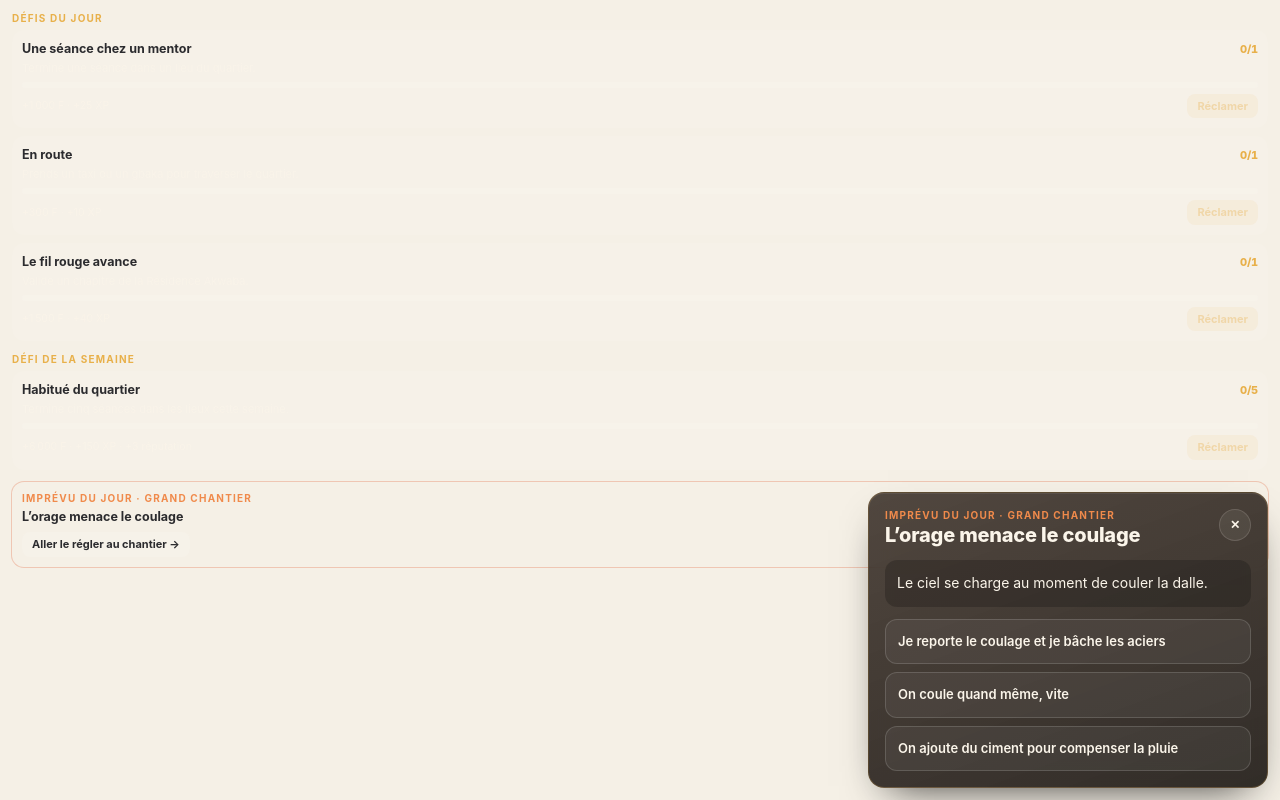
Test case: les défis dans le jeu › affiche les défis dans le téléphone et règle l’imprévu au chantier, avec ses conséquences
Expected: the text "Défis du jour" is shown, left=12, top=12, right=103, bottom=24
Expected: the button "Réclamer" in the row of "25" is disabled, left=1187, top=94, right=1258, bottom=118
Click the button "Je reporte le coulage et je bâche les aciers" at (1068, 641), box left=885, top=618, right=1251, bottom=664
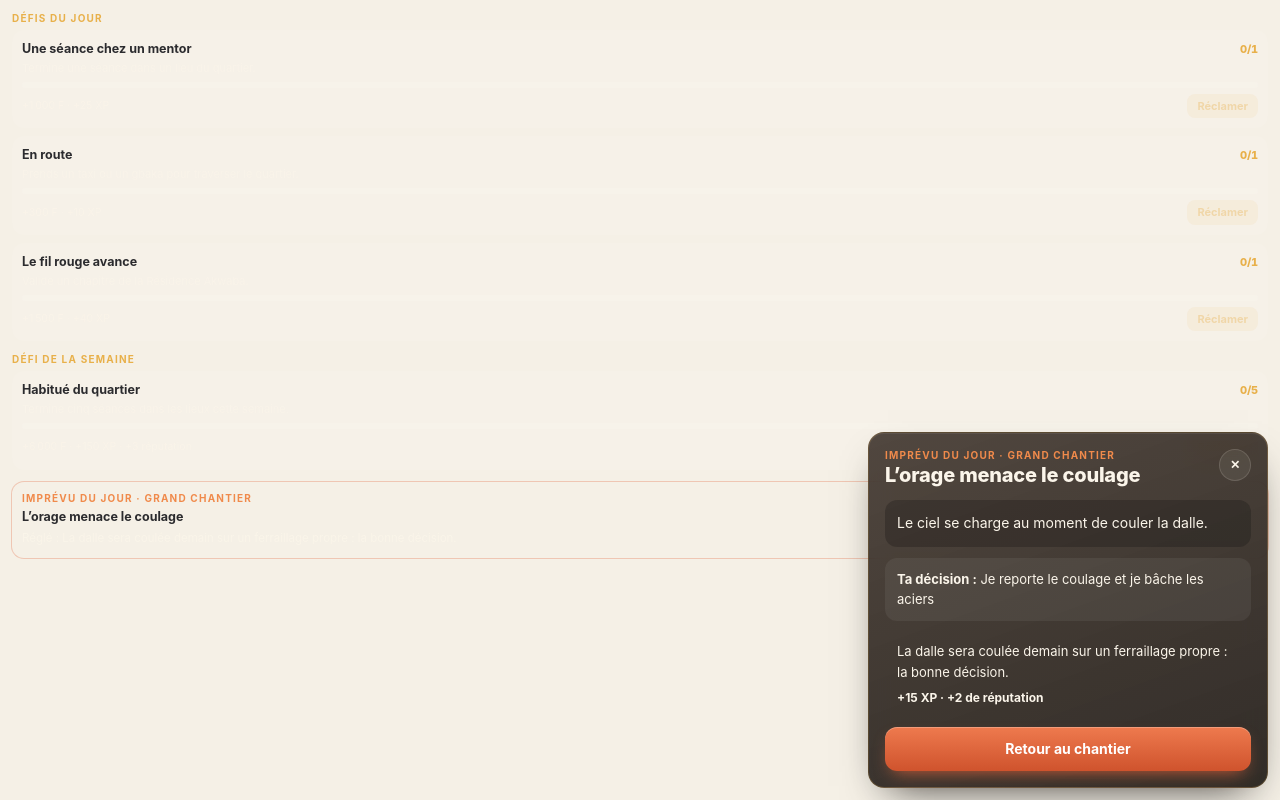
Result: the message is shown at left=885, top=629, right=1251, bottom=719
Result: the text "La dalle sera coulée demain sur un ferraillage propre : la bonne décision." is shown at left=897, top=643, right=1227, bottom=680
